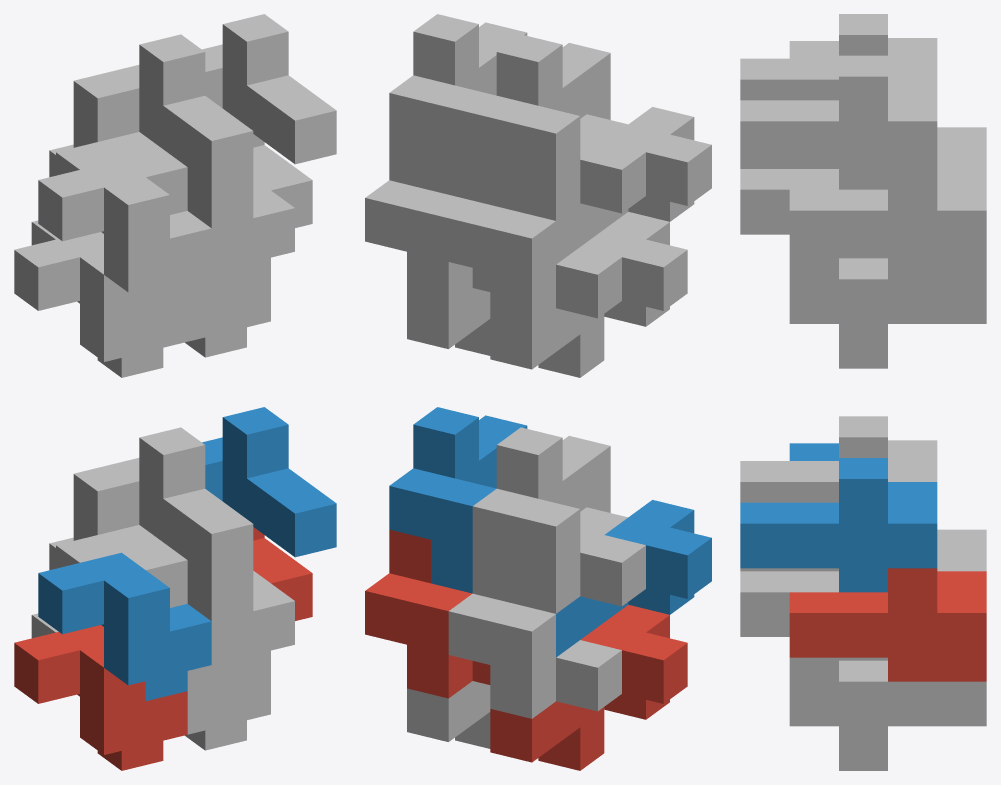
Rendered from tiling.obj.
3 renders of one model, left to right at view 1: azimuth 30°, elevation 25°; view 2: azimuth 150°, elevation 25°; view 3: azimuth 270°, elevation 25°, orthographic. The views are drawn at different scales.
Parts seen in each view (by area): view 1: copy_2_domain_2, copy_2_domain_4, copy_1_domain_4, copy_1_domain_2, copy_1_domain_1, copy_1_domain_3, copy_2_domain_6, copy_2_domain_8, copy_1_domain_6, copy_1_domain_8, copy_1_domain_7, copy_1_domain_5 (+4 smaller); view 2: copy_2_domain_4, copy_2_domain_2, copy_2_domain_3, copy_2_domain_1, copy_2_domain_6, copy_2_domain_8, copy_1_domain_1, copy_1_domain_3, copy_2_domain_5, copy_2_domain_7, copy_1_domain_2, copy_1_domain_4 (+4 smaller); view 3: copy_2_domain_7, copy_2_domain_5, copy_2_domain_6, copy_2_domain_8, copy_1_domain_5, copy_1_domain_7, copy_2_domain_4, copy_2_domain_2, copy_1_domain_6, copy_1_domain_8, copy_2_domain_1, copy_2_domain_3 (+2 smaller).
Part boxes in pixels (box(x1,y1,x2,y2)): copy_2_domain_2: box(56, 427, 253, 577); copy_2_domain_4: box(56, 34, 253, 184); copy_1_domain_4: box(38, 159, 211, 307); copy_1_domain_2: box(38, 552, 211, 700); copy_1_domain_1: box(14, 625, 187, 770); copy_1_domain_3: box(14, 232, 187, 377); copy_2_domain_6: box(202, 407, 336, 557); copy_2_domain_8: box(202, 14, 336, 164); copy_1_domain_6: box(122, 542, 294, 680); copy_1_domain_8: box(122, 149, 294, 287); copy_1_domain_7: box(185, 268, 270, 357); copy_1_domain_5: box(185, 661, 270, 750); copy_2_domain_4: box(472, 34, 645, 220); copy_2_domain_2: box(472, 427, 645, 613); copy_2_domain_3: box(448, 157, 621, 325); copy_2_domain_1: box(448, 550, 621, 718); copy_2_domain_6: box(389, 407, 527, 593); copy_2_domain_8: box(389, 14, 527, 200); copy_1_domain_1: box(490, 605, 687, 770); copy_1_domain_3: box(490, 212, 687, 377); copy_2_domain_5: box(365, 529, 490, 698); copy_2_domain_7: box(365, 136, 490, 305); copy_1_domain_2: box(556, 500, 711, 657); copy_1_domain_4: box(556, 107, 711, 264); copy_2_domain_7: box(789, 166, 986, 279); copy_2_domain_5: box(789, 568, 986, 681); copy_2_domain_6: box(740, 458, 937, 592); copy_2_domain_8: box(740, 55, 937, 189); copy_1_domain_5: box(789, 657, 986, 770); copy_1_domain_7: box(789, 255, 986, 368); copy_2_domain_4: box(740, 14, 937, 100); copy_2_domain_2: box(740, 416, 937, 502); copy_1_domain_6: box(740, 568, 838, 681); copy_1_domain_8: box(740, 166, 838, 279); copy_2_domain_1: box(937, 529, 986, 571); copy_2_domain_3: box(937, 127, 986, 168).
Bounding box in the file's own units: 6 × 16 × 5.
